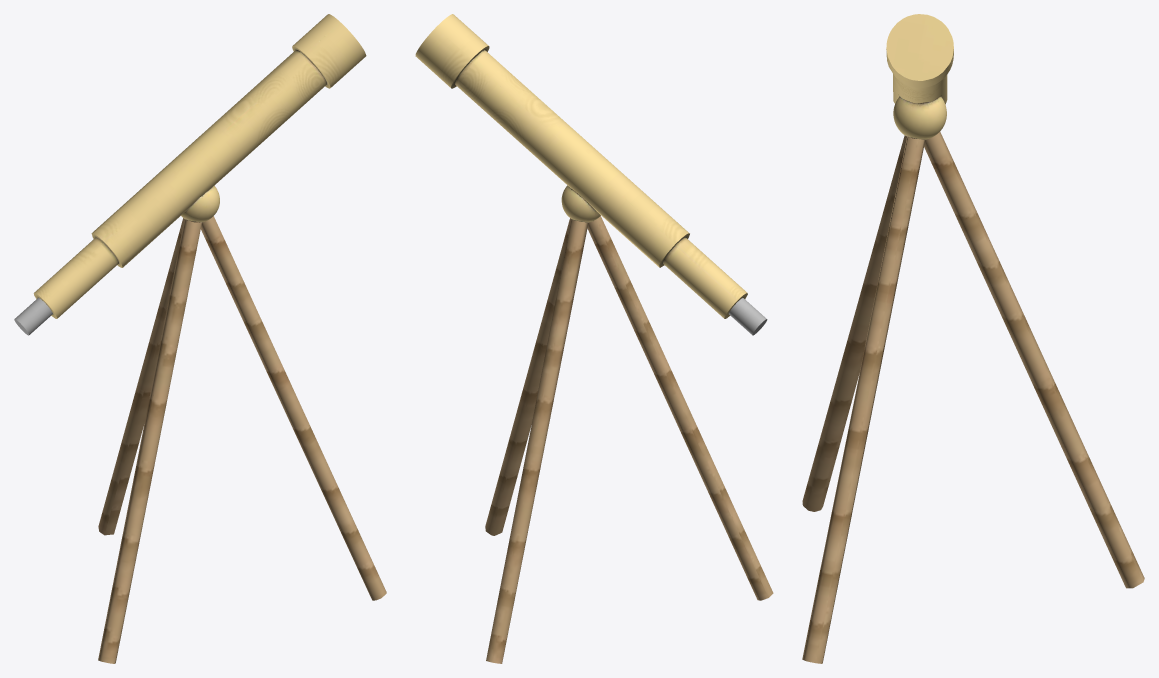
The model's file is telescope.glb.
3 renders of one model, left to right at view 1: azimuth 30°, elevation 25°; view 2: azimuth 150°, elevation 25°; view 3: azimuth 270°, elevation 25°, orthographic. The views are drawn at different scales.
Visible parts, largest first — view 1: telescope; view 2: telescope; view 3: telescope.
Part boxes in pixels (x1,y1,x2,y2): telescope: (14,14,386,663); telescope: (415,14,773,663); telescope: (802,14,1144,663).
Bounding box in the file's own units: 1.23 × 1.87 × 0.8925.
3 materials, 3 textured.
